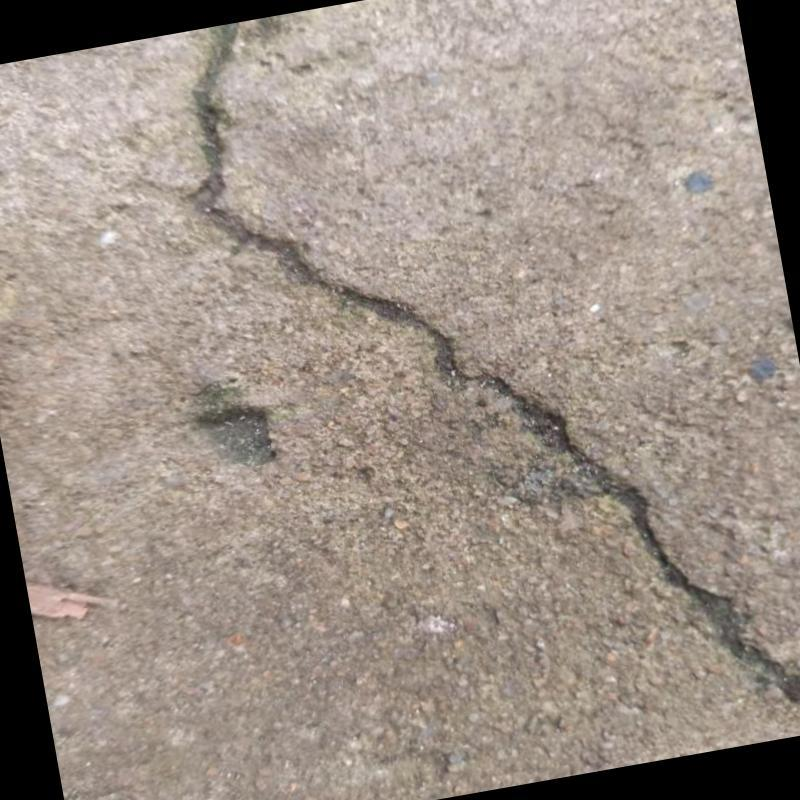pothole: (189, 23, 800, 699)
